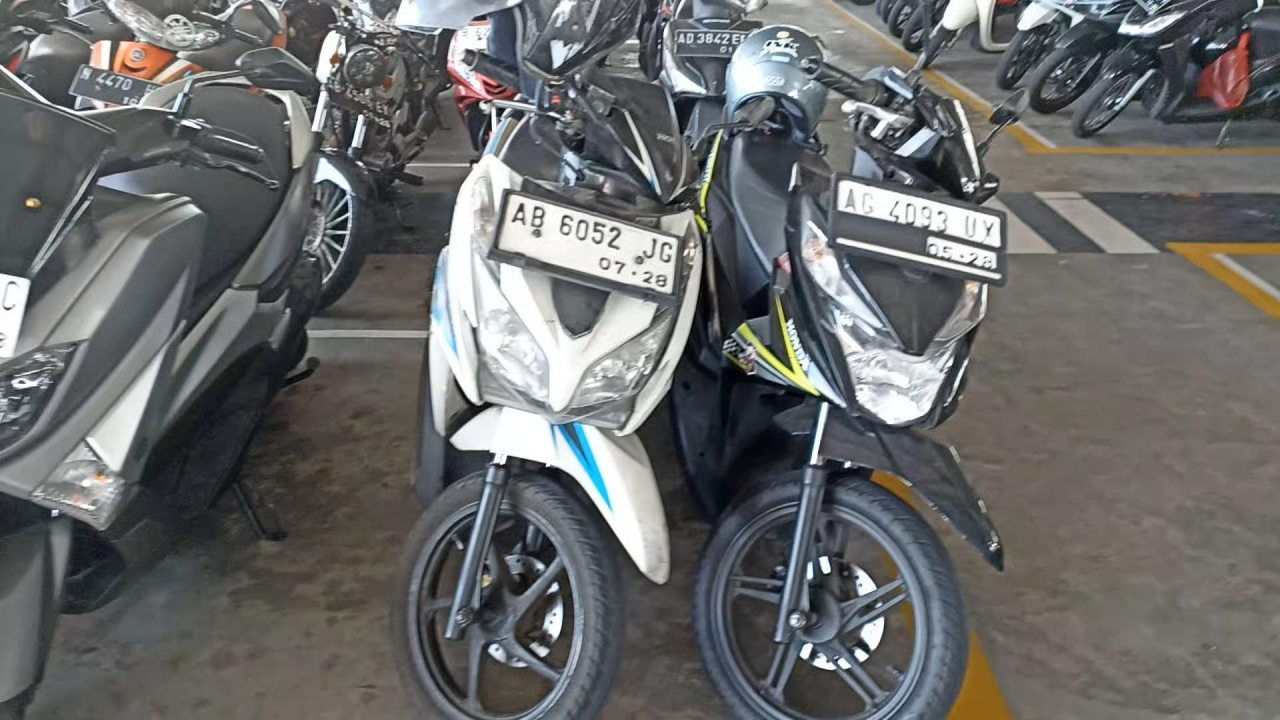plate: (490, 191, 683, 298), (830, 173, 1005, 282)
